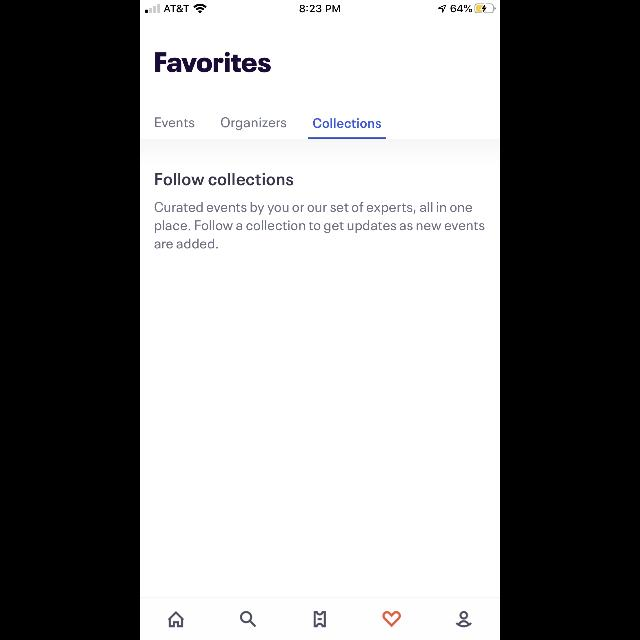icon: (383, 611, 401, 627), (168, 611, 184, 627), (240, 611, 256, 627), (456, 611, 472, 627), (314, 610, 326, 628)
text: (154, 202, 484, 248), (156, 52, 270, 72), (155, 172, 293, 185), (222, 118, 286, 130), (313, 118, 381, 128), (155, 118, 195, 128)
uppertaskbar: (140, 0, 500, 14)
